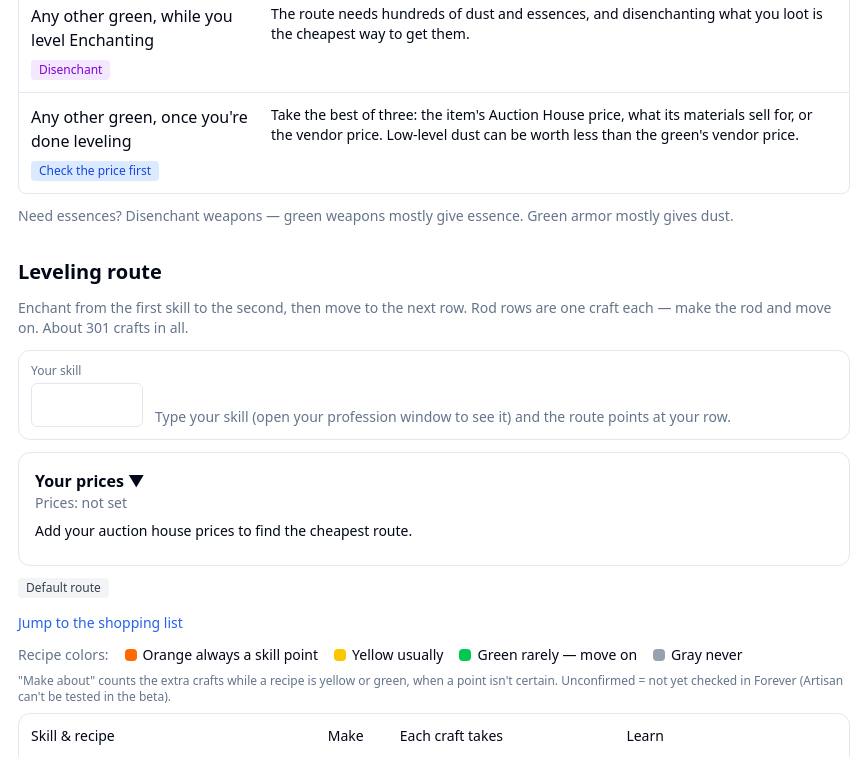
Test: Professions page › saves a typed skill per profession
(page scrolled)
Expected: the text "You are here" is not shown
Type "120" into the number field labelled "Your skill" at x=87, y=405, box [31, 383, 143, 427]
(page scrolled)
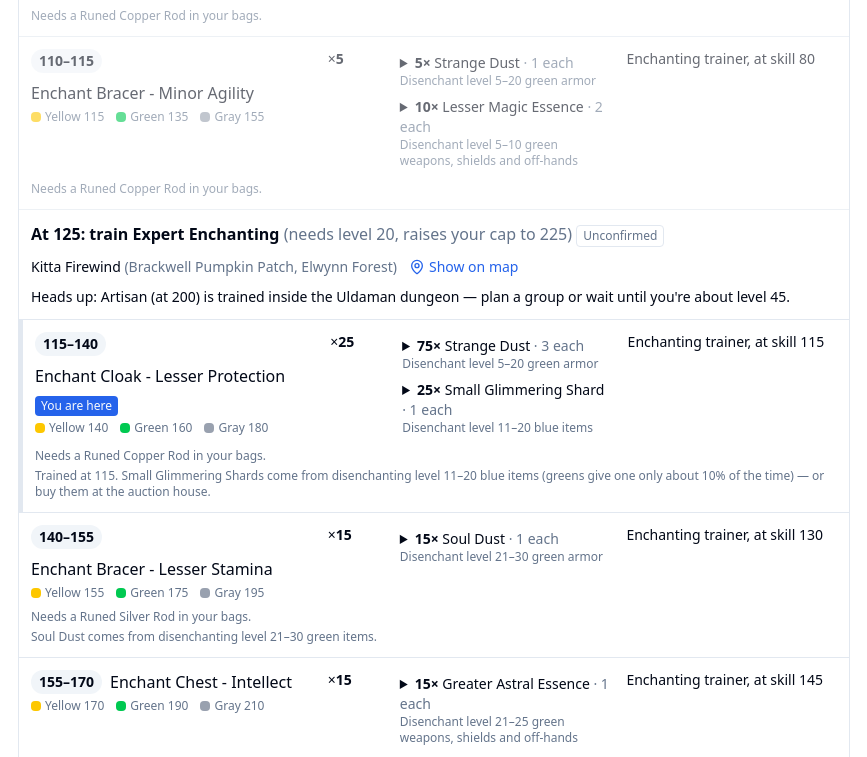
Now the text "You are here" is shown, box [35, 396, 118, 416]
